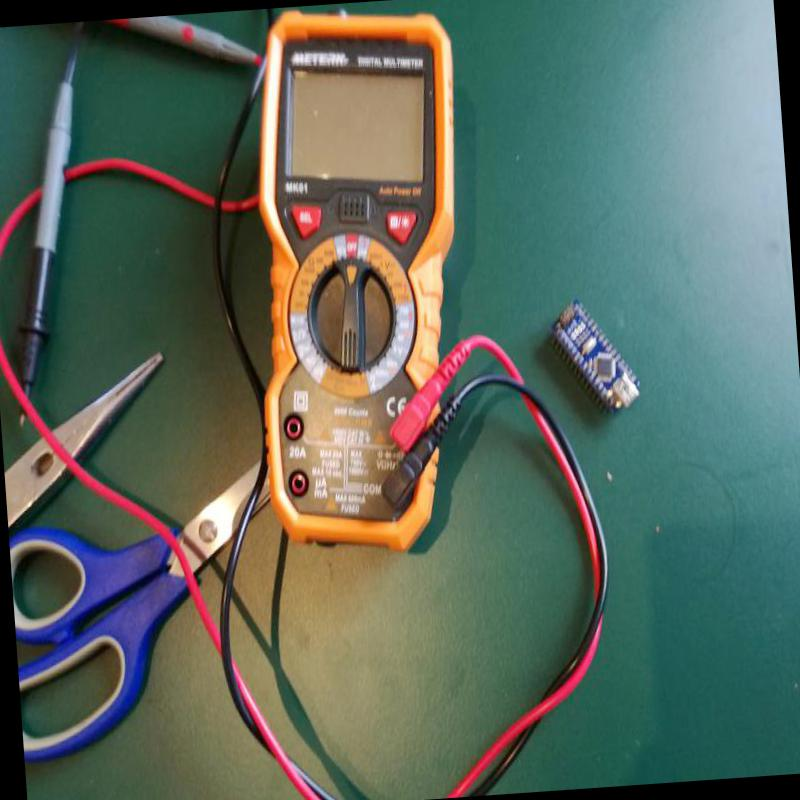Arduino_Nano: (544, 287, 645, 420)
